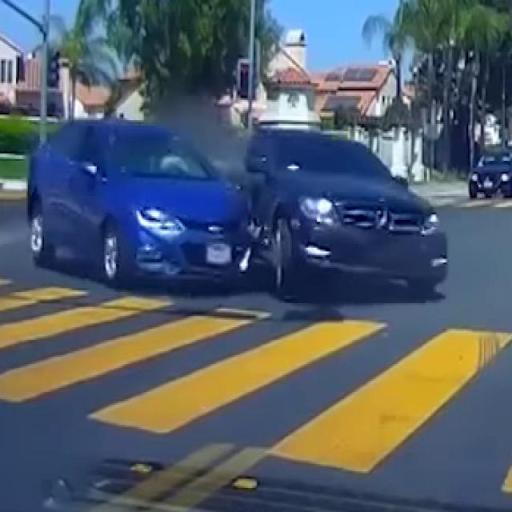小汽车: (468, 146, 512, 202)
小汽车撞小汽车: (30, 118, 448, 304)
